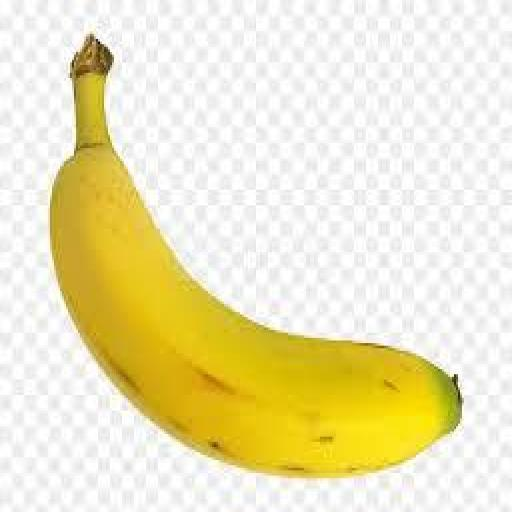banana: (50, 37, 461, 475)
